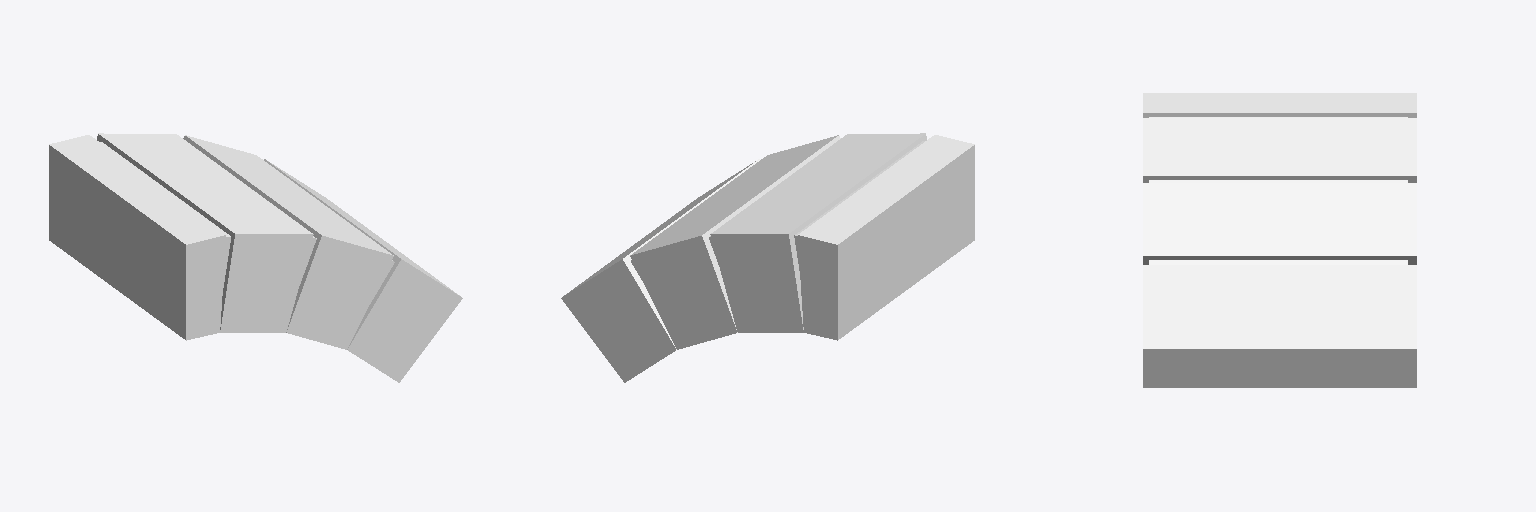
Rendered from generic_segmental_arch_2.obj.
The picture shows the model from 3 angles: view 1: azimuth 30°, elevation 25°; view 2: azimuth 150°, elevation 25°; view 3: azimuth 270°, elevation 25°; orthographic projection.
Parts seen in each view (by area): view 1: tube, tube.000; view 2: tube; view 3: tube, tube.000.
Boxes of the visible parts, x1=… form: tube: x1=49, y1=133, x2=462, y2=382; tube.000: x1=100, y1=142, x2=394, y2=303; tube: x1=561, y1=133, x2=974, y2=382; tube: x1=1143, y1=93, x2=1416, y2=387; tube.000: x1=1149, y1=117, x2=1407, y2=264.
Size of the model in its own units: 1.31 by 0.8607 by 1.12.